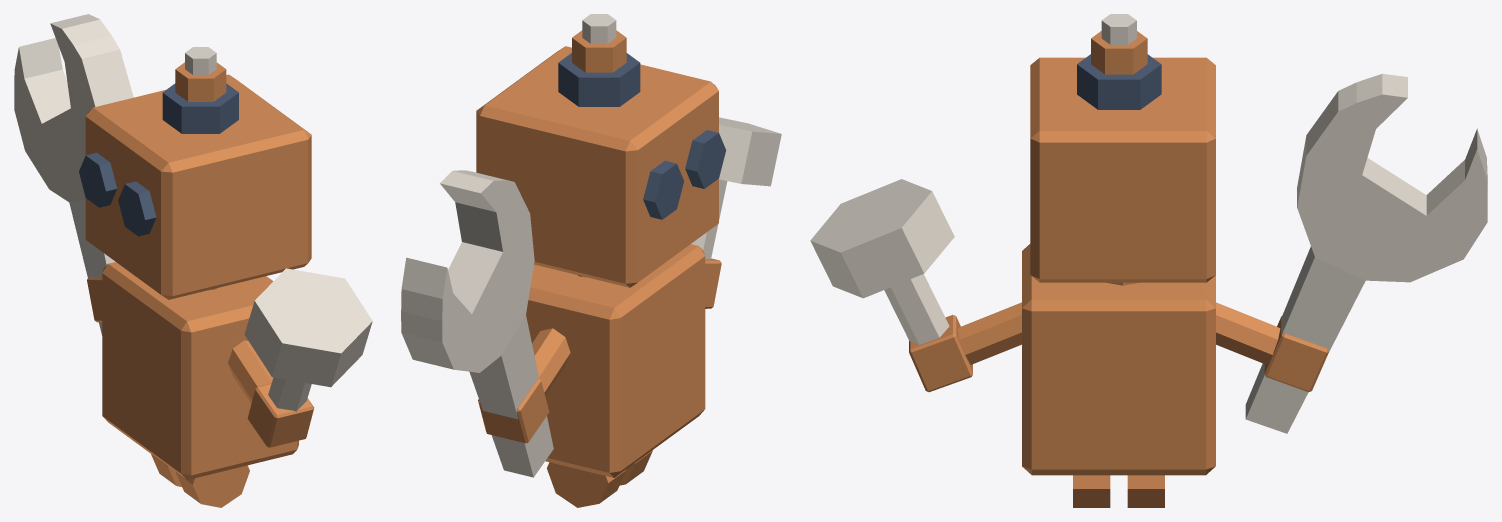
File: RobotAssembler.fbx
3 views of the same model, side by side, from view 1: azimuth 30°, elevation 25°; view 2: azimuth 150°, elevation 25°; view 3: azimuth 270°, elevation 25° (orthographic). The views are drawn at different scales.
Parts seen in each view (by area): view 1: RobotRepairman; view 2: RobotRepairman; view 3: RobotRepairman.
Boxes of the visible parts, x1,y1,x2,y2 form: RobotRepairman: [14, 14, 372, 507]; RobotRepairman: [401, 14, 781, 507]; RobotRepairman: [810, 14, 1487, 507].
Size of the model in its own units: 20.08 by 52.05 by 65.69.
